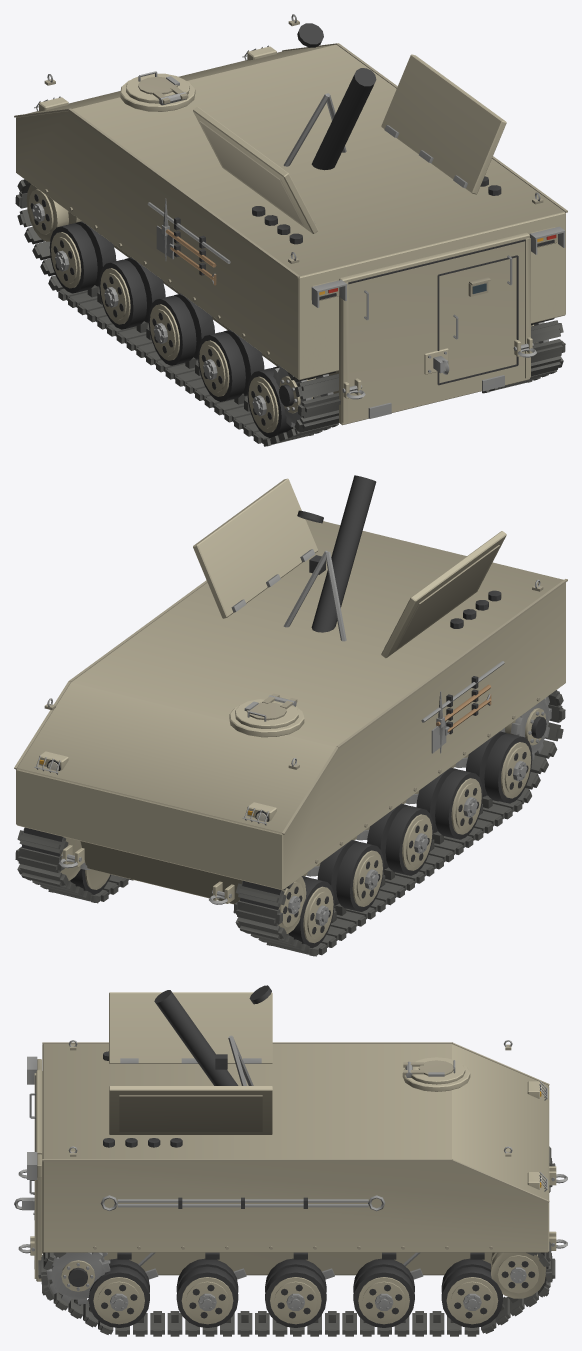
Rendered from usa_mor_1064.glb.
The picture shows the model from 3 angles, top to bottom: view 1: azimuth 30°, elevation 25°; view 2: azimuth 150°, elevation 25°; view 3: azimuth 270°, elevation 25°; orthographic projection. The views are drawn at different scales.
Visible parts, largest first — view 1: body, barrel; view 2: body, barrel; view 3: body, barrel.
Part boxes in pixels (x1=…): body: x1=14, y1=14, x2=567, y2=446; barrel: x1=283, y1=23, x2=376, y2=170; body: x1=14, y1=478, x2=567, y2=956; barrel: x1=283, y1=475, x2=376, y2=641; body: x1=14, y1=992, x2=567, y2=1336; barrel: x1=154, y1=985, x2=271, y2=1085.
Size of the model in its own units: 2.82 by 3.15 by 5.41.
